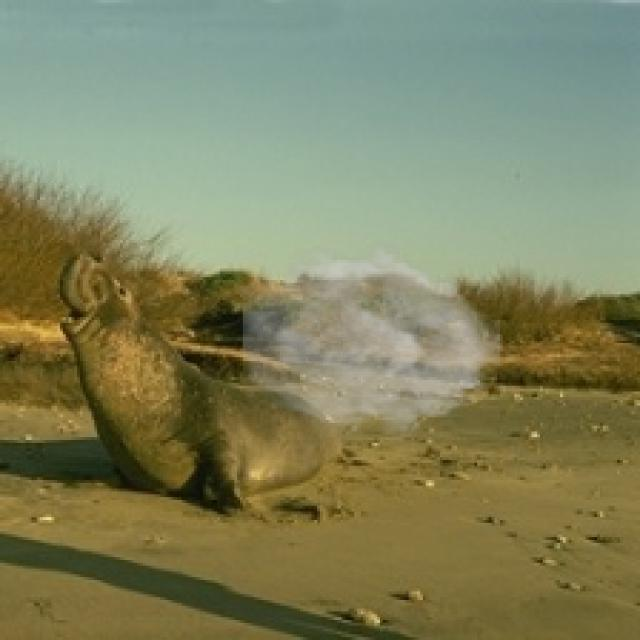smoke: (243, 240, 500, 440)
